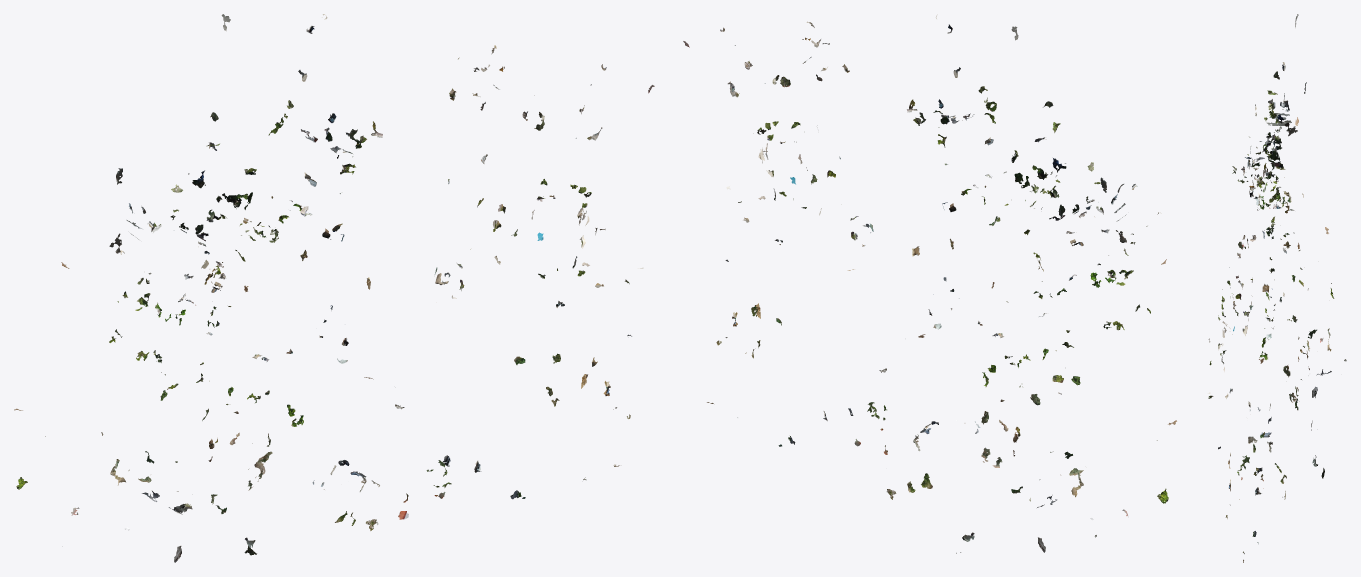
The model's file is tile_8.glb.
The picture shows the model from 3 angles, left to right: view 1: azimuth 30°, elevation 25°; view 2: azimuth 150°, elevation 25°; view 3: azimuth 270°, elevation 25°; orthographic projection. The views are drawn at different scales.
Size of the model in its own units: 171 by 158 by 45.18.
1 material, 1 textured.
